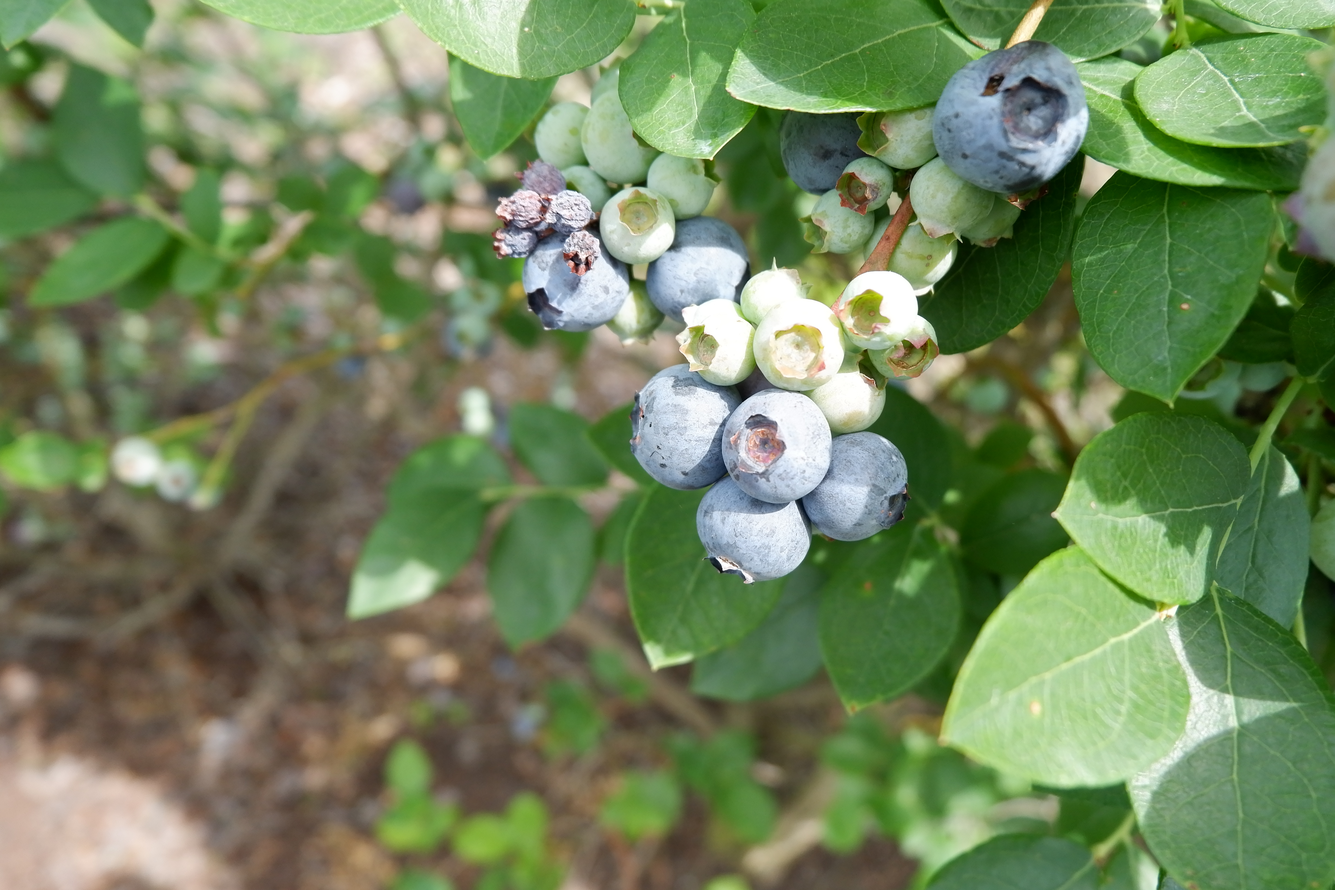Immature: (756, 301, 843, 388), (863, 215, 956, 290), (584, 91, 659, 181), (914, 158, 994, 236), (679, 301, 755, 382), (837, 273, 916, 347), (811, 361, 884, 431), (603, 189, 674, 260), (862, 104, 935, 166), (649, 154, 713, 217), (873, 318, 939, 377), (808, 192, 873, 251), (535, 102, 588, 167), (608, 278, 662, 339), (743, 268, 805, 321), (839, 158, 893, 211), (963, 194, 1017, 244), (563, 166, 608, 207)
Mature: (938, 44, 1087, 188), (632, 368, 737, 486), (725, 391, 831, 501), (699, 479, 809, 580), (805, 436, 907, 539), (524, 231, 629, 329), (648, 219, 747, 316), (782, 113, 861, 191)
